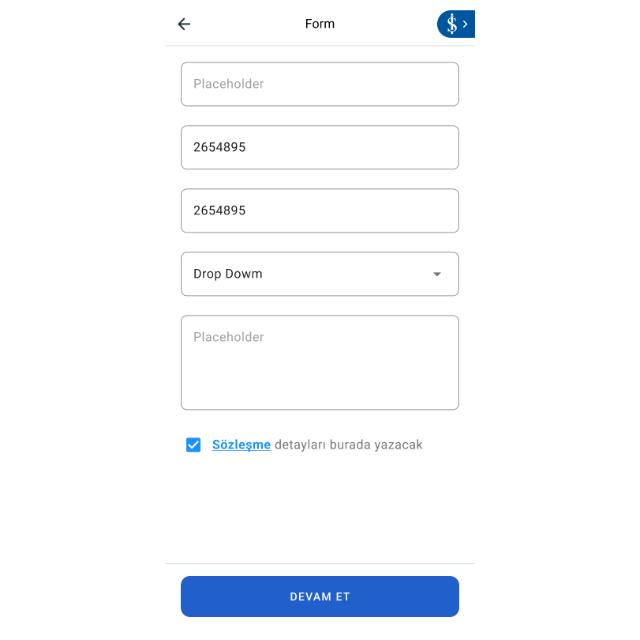QLabel: (274, 438, 426, 454), (210, 438, 272, 454), (290, 590, 354, 602), (304, 18, 336, 30)
VAppBar: (165, 0, 475, 46)
VBtn: (180, 575, 462, 619)
VCheckbox: (184, 436, 202, 454)
VCombobox: (180, 251, 462, 297)
VFooter: (165, 562, 475, 640)
VIcon: (175, 15, 192, 32)
VImg: (438, 10, 474, 38)
VTextField: (180, 62, 462, 108), (181, 188, 461, 234), (181, 124, 461, 170)
VTextarea: (180, 316, 462, 410)
